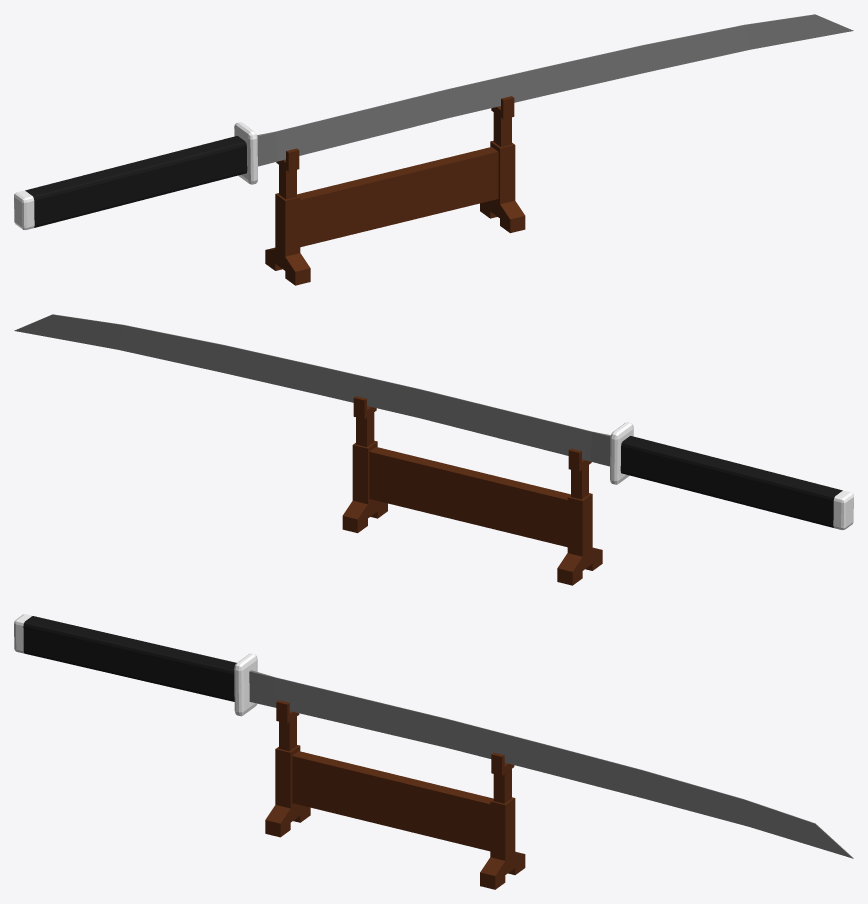
The model's file is Katana_03.fbx.
The picture shows the model from 3 angles, top to bottom: view 1: azimuth 30°, elevation 25°; view 2: azimuth 150°, elevation 25°; view 3: azimuth 330°, elevation 25°; orthographic projection.
Visible parts, largest first — view 1: Katana_03; view 2: Katana_03; view 3: Katana_03.
Part boxes in pixels (left/top/right/bottom): Katana_03: left=14, top=14, right=853, bottom=285; Katana_03: left=14, top=314, right=853, bottom=585; Katana_03: left=14, top=614, right=853, bottom=889.
Size of the model in its own units: 119 by 21.31 by 7.43.
